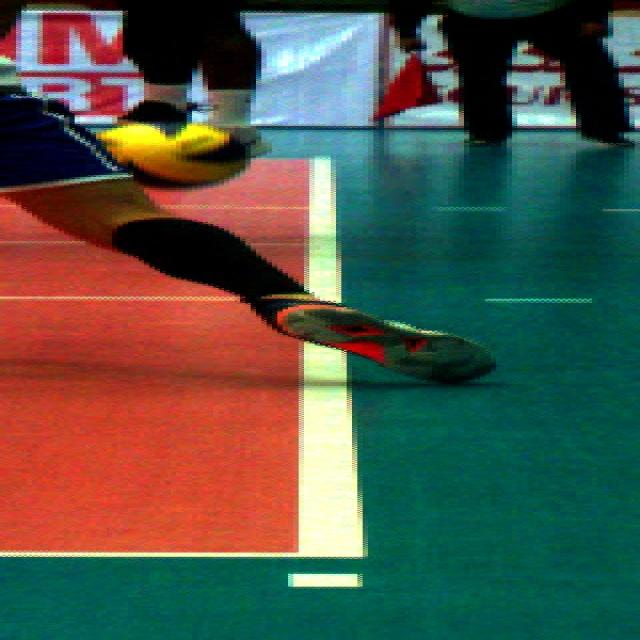Volleyball: (97, 118, 252, 187)
